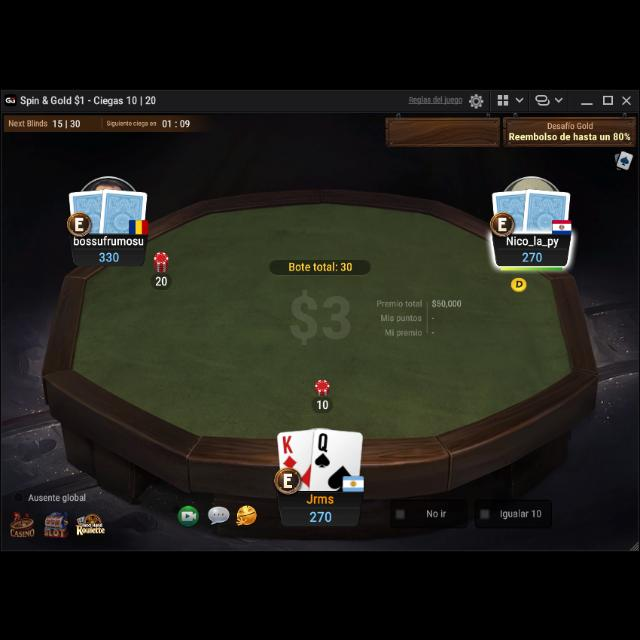Kd: (280, 434, 300, 468)
Qs: (314, 430, 332, 468)
bet_text: (316, 396, 329, 409), (154, 276, 168, 286)
card_back: (522, 184, 572, 236), (98, 184, 148, 236), (490, 186, 534, 234), (66, 186, 110, 234)
dealer: (509, 272, 529, 292)
pot_text: (286, 258, 354, 272)
stack_text: (307, 506, 333, 522), (520, 248, 544, 262), (98, 249, 120, 263)
